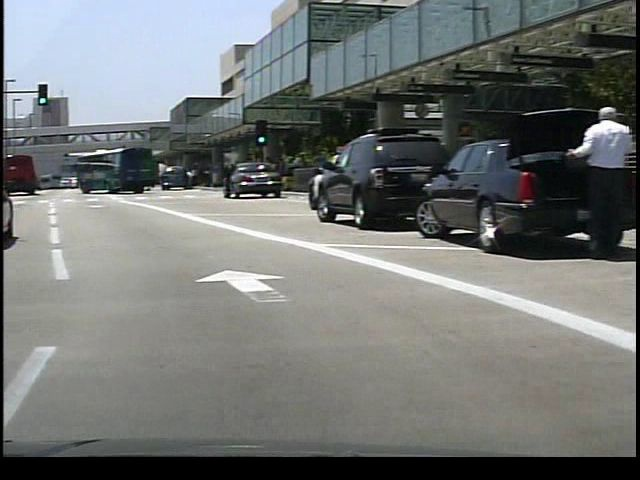person: (549, 98, 623, 262)
